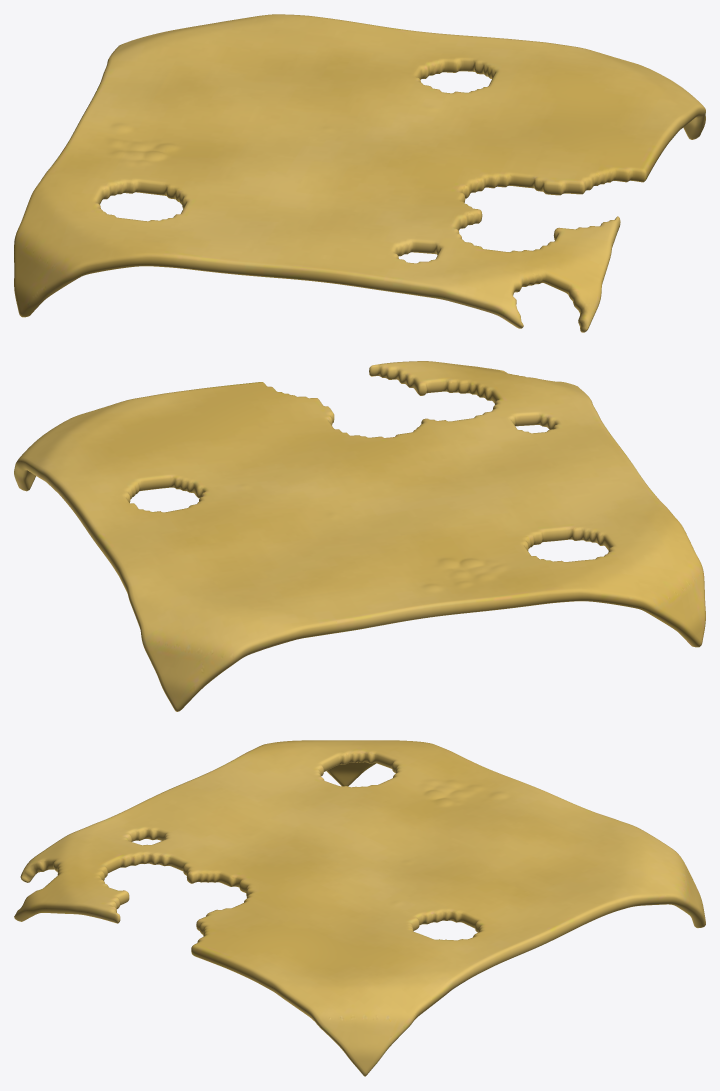
The model's file is cheese_swiss.glb.
The picture shows the model from 3 angles, top to bottom: view 1: azimuth 30°, elevation 25°; view 2: azimuth 150°, elevation 25°; view 3: azimuth 270°, elevation 25°; orthographic projection. The views are drawn at different scales.
Visible parts, largest first — view 1: cheese_swiss_web; view 2: cheese_swiss_web; view 3: cheese_swiss_web.
Boxes of the visible parts, left/top/right/bottom form: cheese_swiss_web: left=14, top=14, right=705, bottom=332; cheese_swiss_web: left=14, top=361, right=705, bottom=711; cheese_swiss_web: left=14, top=740, right=705, bottom=1076.
Size of the model in its own units: 0.1229 by 0.0142 by 0.1212.
1 material, 1 textured.
